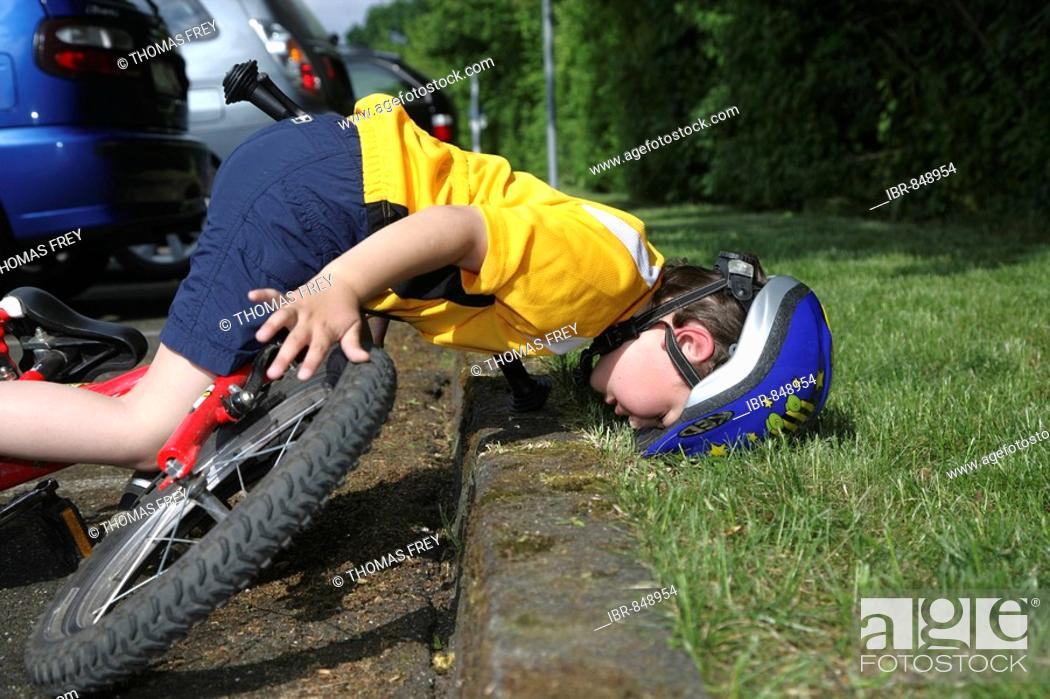helmet: (587, 248, 833, 459)
